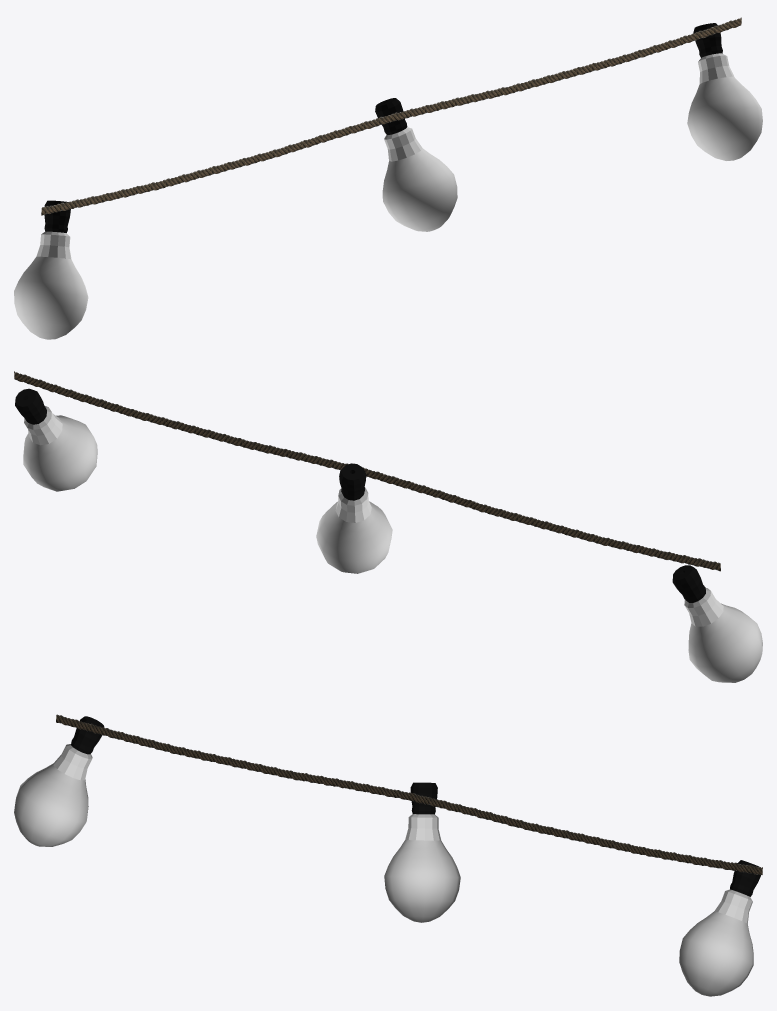
File: SM_HoriRopeBulb.fbx
3 views of the same model, one above another, from view 1: azimuth 30°, elevation 25°; view 2: azimuth 150°, elevation 25°; view 3: azimuth 330°, elevation 25° (orthographic).
Visible parts, largest first — view 1: HorizontalbulbString; view 2: HorizontalbulbString; view 3: HorizontalbulbString.
Part boxes in pixels (x1,y1,x2,y2): HorizontalbulbString: (14, 17, 762, 339); HorizontalbulbString: (14, 371, 762, 682); HorizontalbulbString: (14, 714, 762, 996).
Bounding box in the file's own units: 142 × 26.83 × 17.04.
